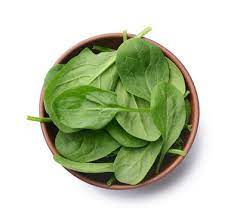spinach: (63, 55, 176, 160)
